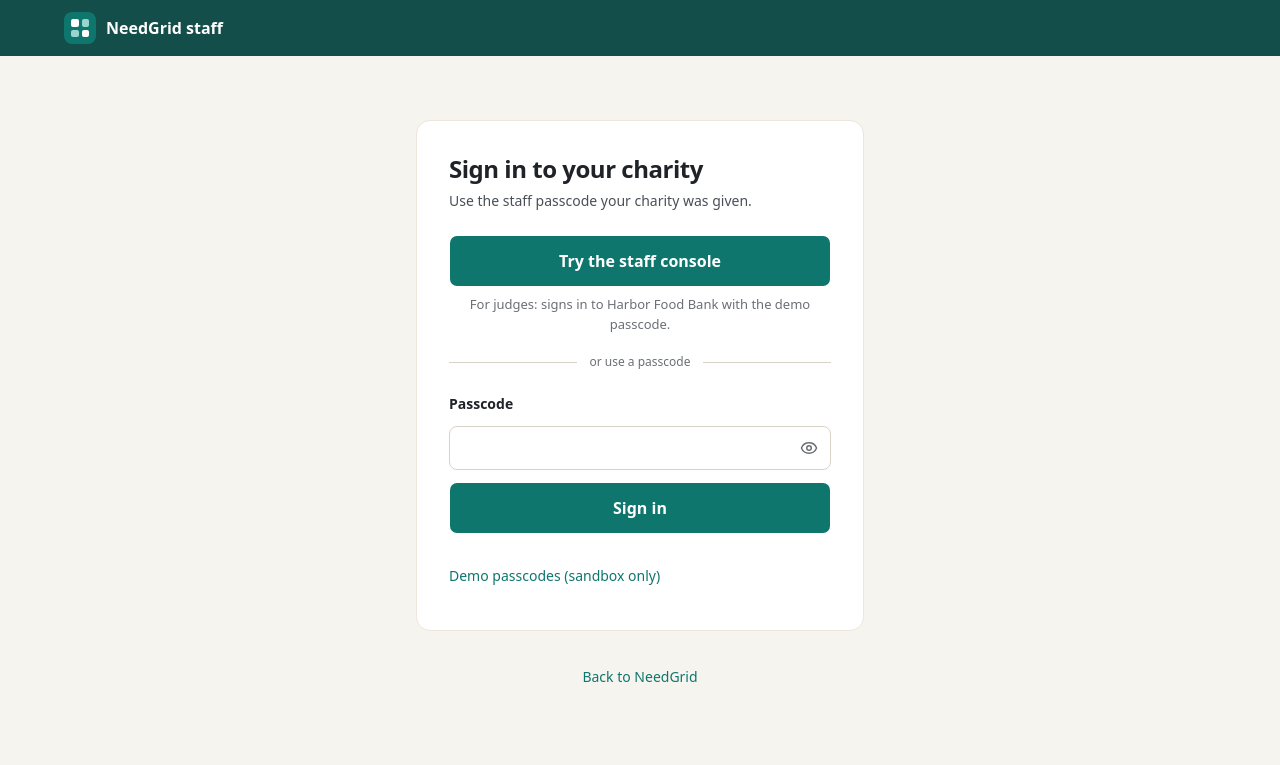
Scenario: Staff login /staff/login › Try the staff console signs in with the demo passcode, sent only as a header
The width and height of the screenshot is (1280, 765).
Step 1. Click the button "Try the staff console" → (640, 261), box [449,235,831,287]
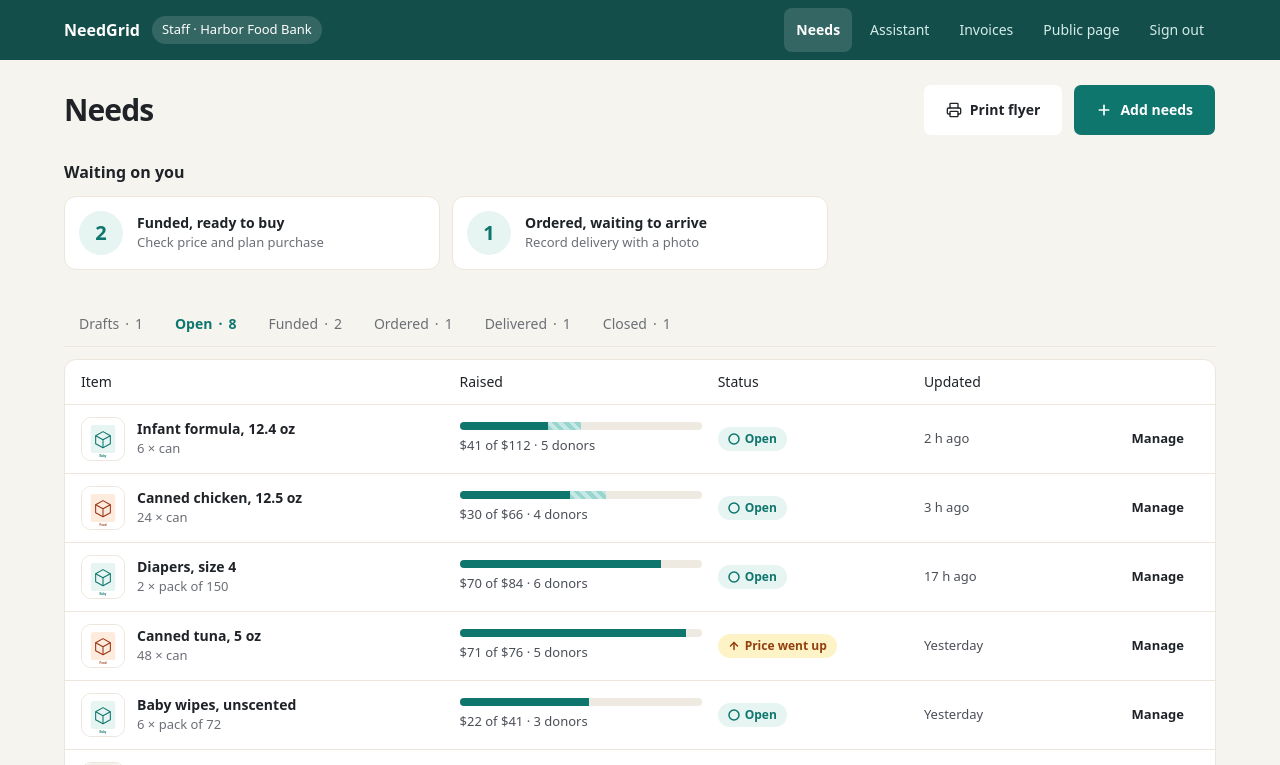
Expected: the heading "Needs" is shown, [64,92,153,128]
Expected: the text "Staff · Harbor Food Bank" is shown, [152,16,322,44]
